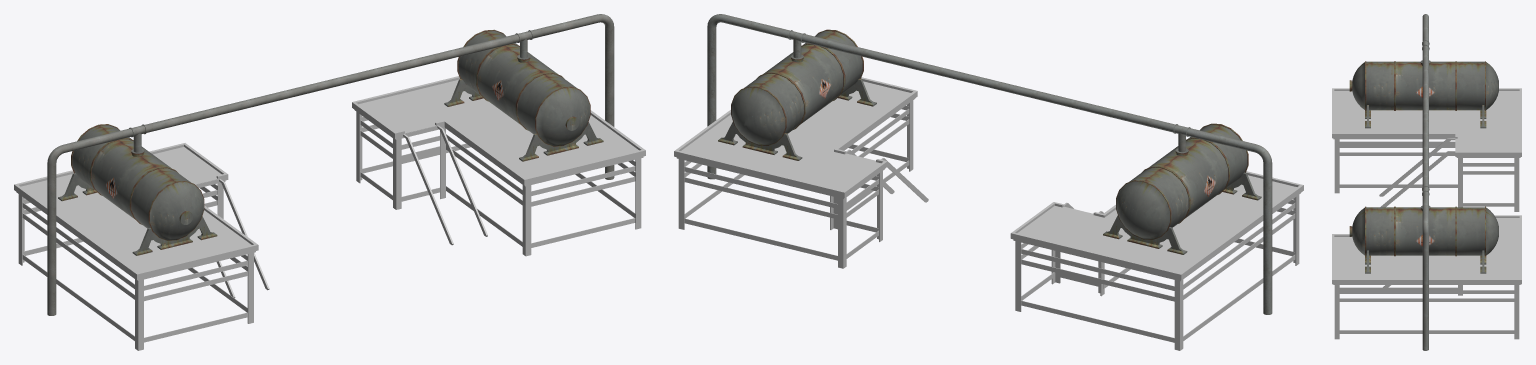
Rendered from tank_1_lod1.fbx.
3 views of the same model, side by side, from view 1: azimuth 30°, elevation 25°; view 2: azimuth 150°, elevation 25°; view 3: azimuth 270°, elevation 25° (orthographic). The views are drawn at different scales.
Parts seen in each view (by area): view 1: Mesh Object; view 2: Mesh Object; view 3: Mesh Object.
Boxes of the visible parts, <box> form: Mesh Object: <box>14,14,645,350</box>; Mesh Object: <box>674,14,1303,350</box>; Mesh Object: <box>1332,14,1521,350</box>.
Bounding box in the file's own units: 30.71 × 8.67 × 11.56.
